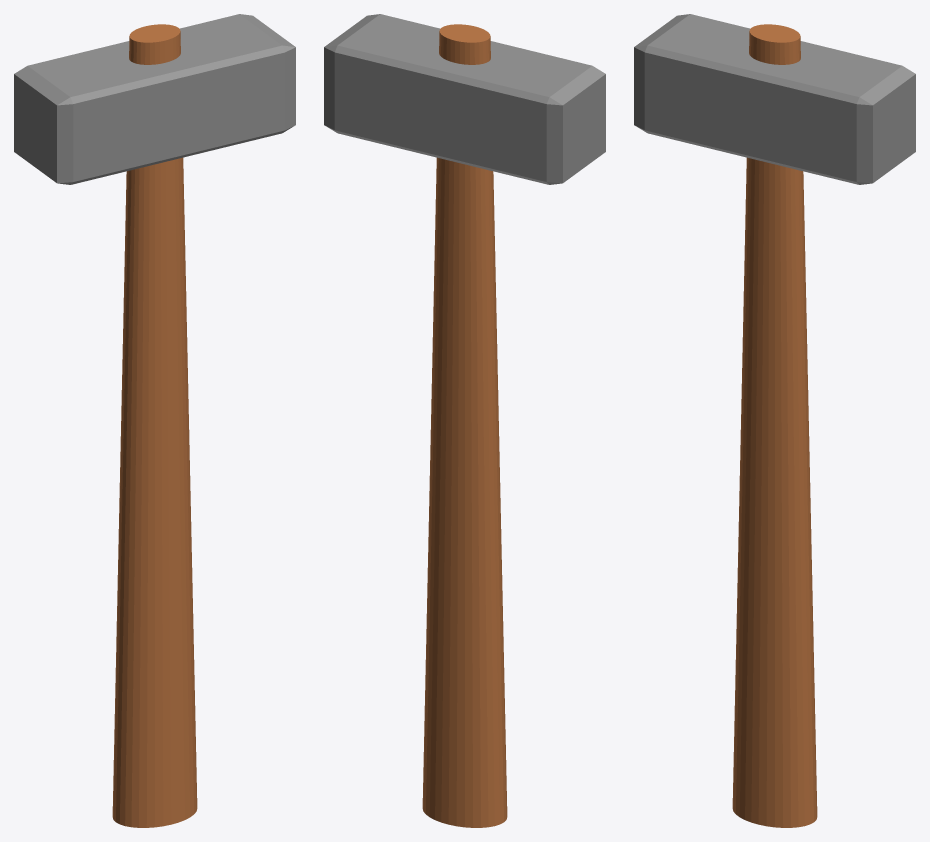
File: sledge hammer.fbx
3 views of the same model, side by side, from view 1: azimuth 30°, elevation 25°; view 2: azimuth 150°, elevation 25°; view 3: azimuth 330°, elevation 25° (orthographic).
Visible parts, largest first — view 1: Cylinder.002, Cube.002; view 2: Cylinder.002, Cube.002; view 3: Cylinder.002, Cube.002.
Part boxes in pixels (x1,y1,x2,y2): Cylinder.002: (112,24,197,827); Cube.002: (14,14,295,184); Cylinder.002: (422,24,507,827); Cube.002: (324,14,605,184); Cylinder.002: (732,24,817,827); Cube.002: (634,14,915,184).
Size of the model in its own units: 257 by 800 by 90.15.
